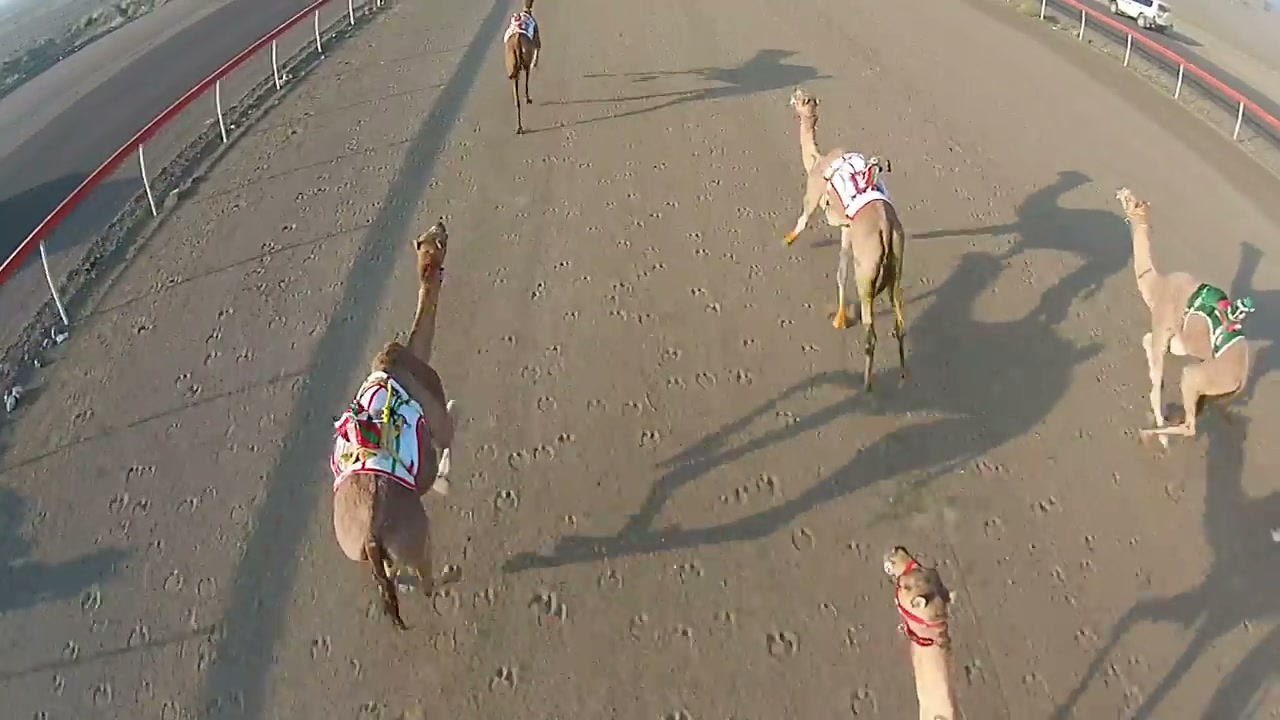animal_foot_print: (469, 140, 804, 700), (44, 258, 289, 688)
